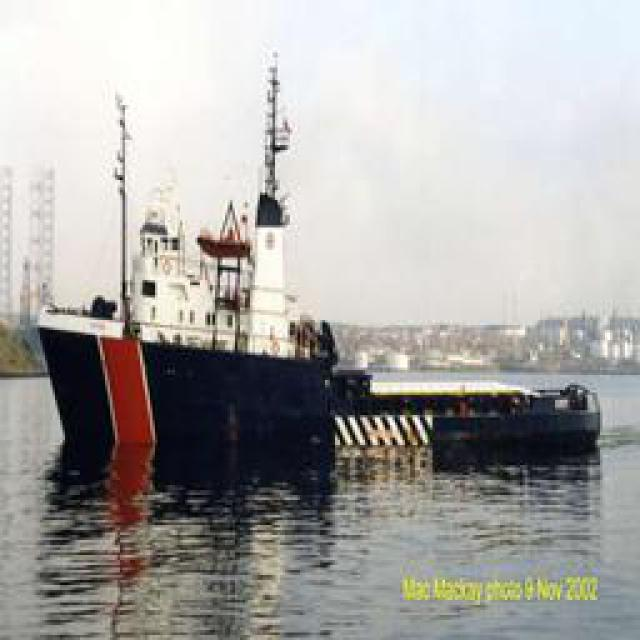Ship: (31, 241, 613, 469)
